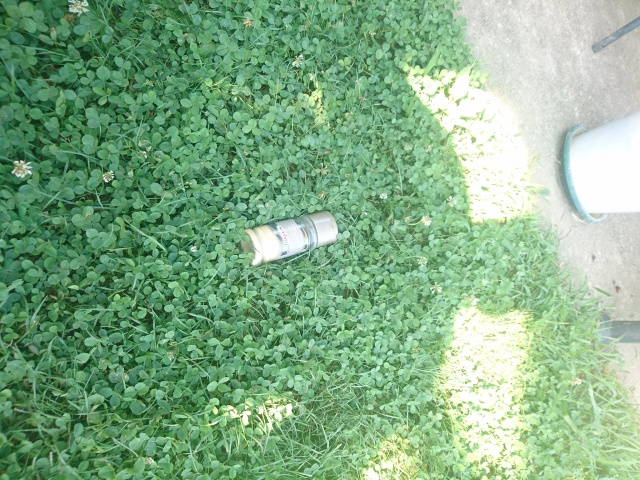Kotanyi Garlic Granules 70g: (235, 208, 341, 268)
